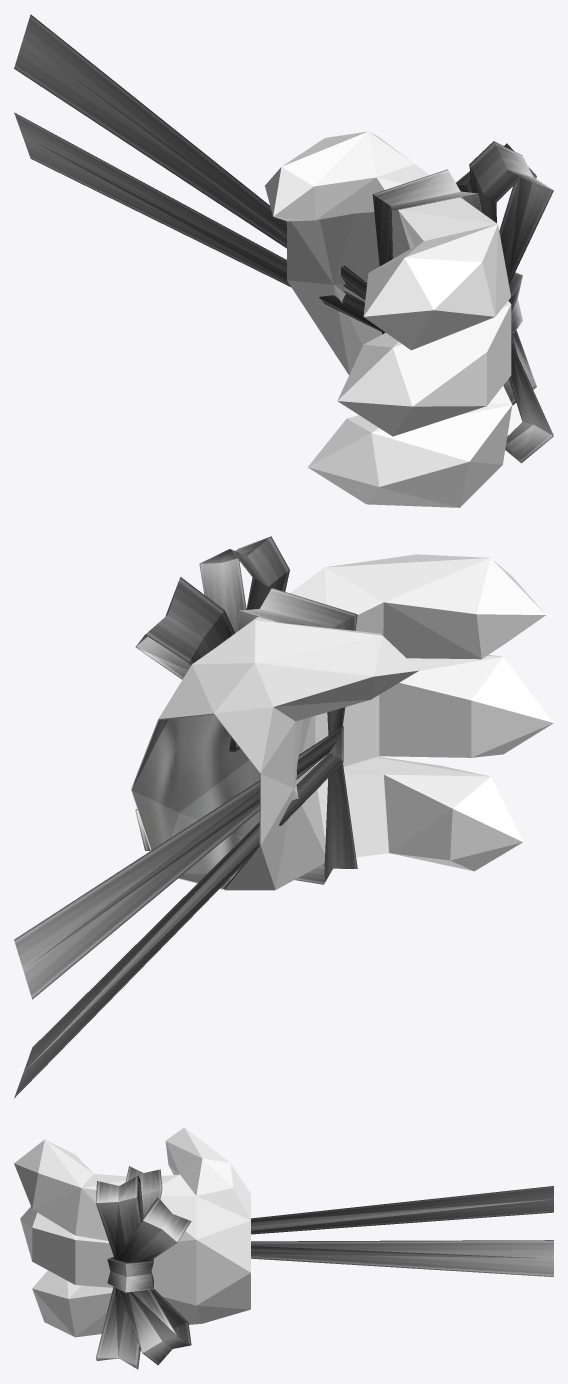
3 views of the same model, one above another, from view 1: azimuth 30°, elevation 25°; view 2: azimuth 150°, elevation 25°; view 3: azimuth 270°, elevation 25° (orthographic). The views are drawn at different scales.
Visible parts, largest first — view 1: B_0023_2a_1, B_0023_2a_0; view 2: B_0023_2a_1, B_0023_2a_0; view 3: B_0023_2a_1, B_0023_2a_0.
Part boxes in pixels (x1,y1,x2,y2): B_0023_2a_1: (265, 131, 512, 507); B_0023_2a_0: (14, 14, 553, 463); B_0023_2a_1: (131, 554, 553, 890); B_0023_2a_0: (14, 536, 357, 1098); B_0023_2a_1: (14, 1127, 250, 1337); B_0023_2a_0: (96, 1166, 553, 1369).
Bounding box in the file's own units: 3.04 × 3.19 × 8.02.
